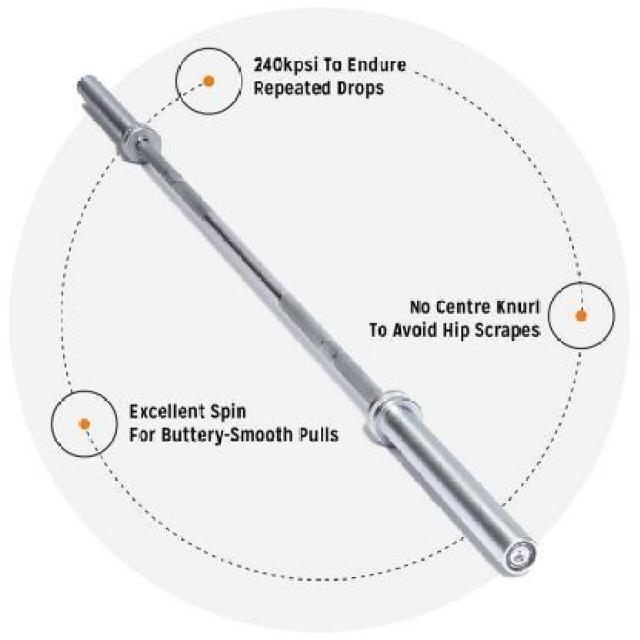Barbell: (492, 529, 546, 583)
